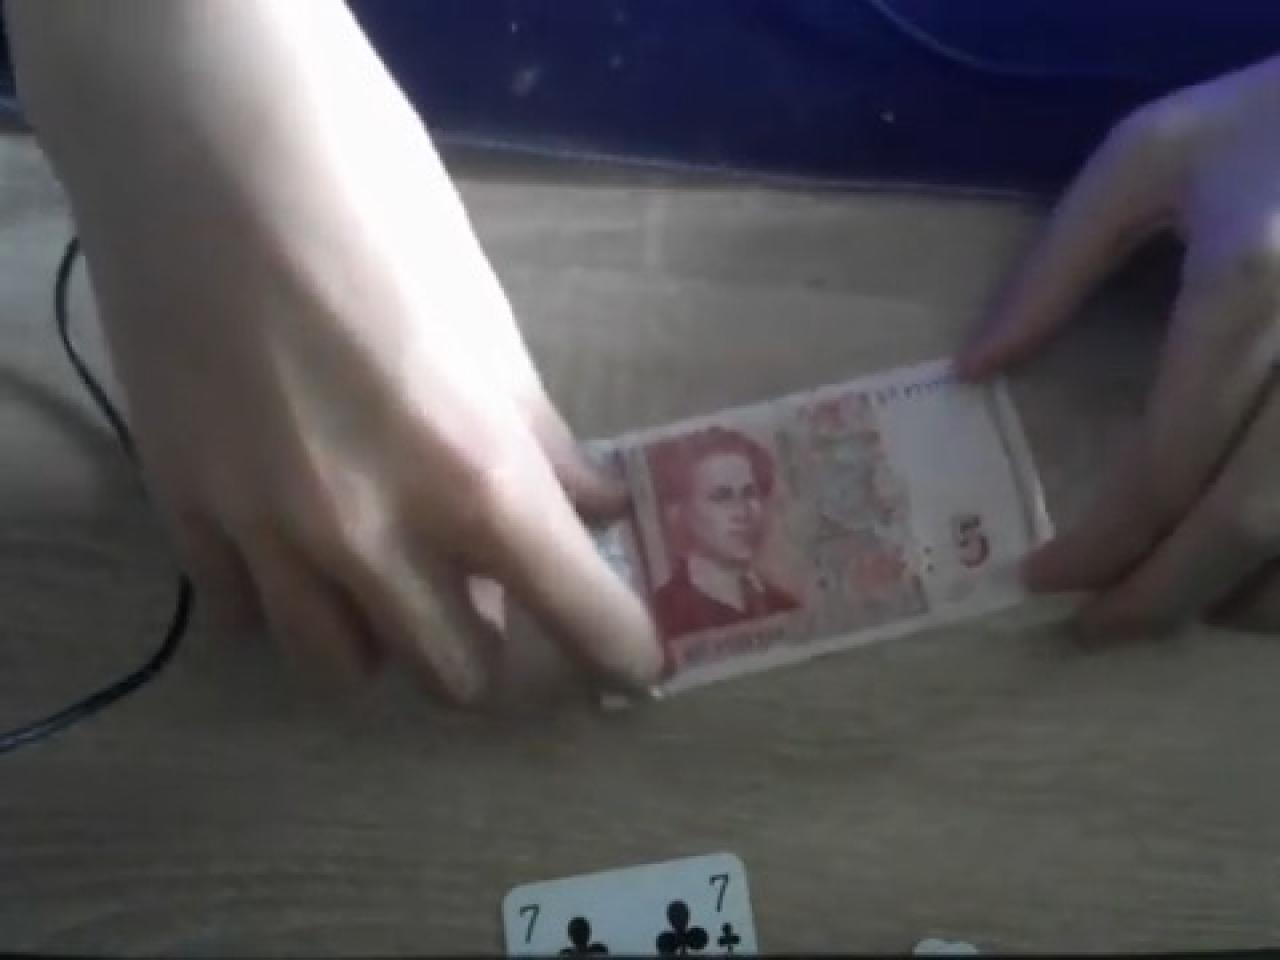5leva: (590, 363, 1058, 699)
